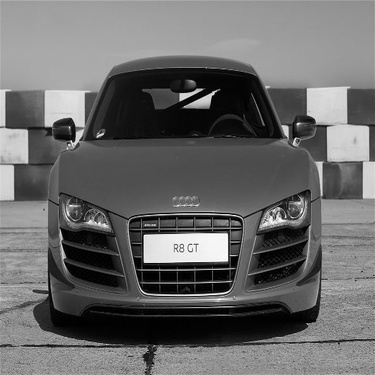car: (23, 43, 338, 345)
